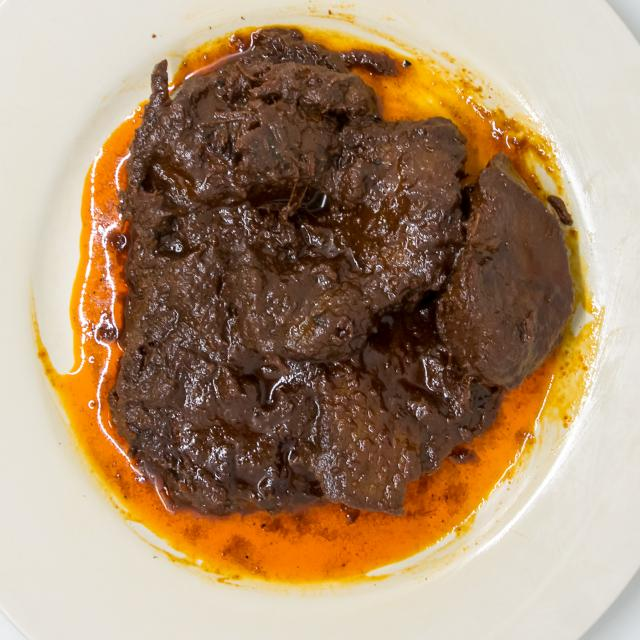Rendang: (97, 16, 583, 572)
